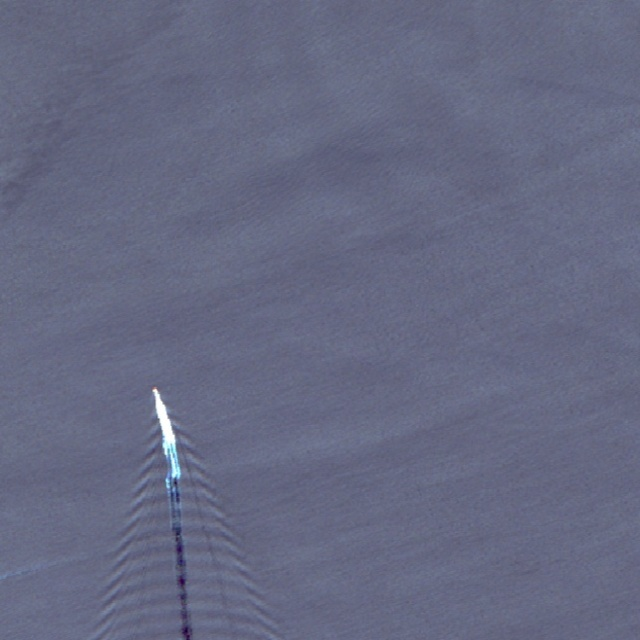wake: (91, 370, 257, 632)
